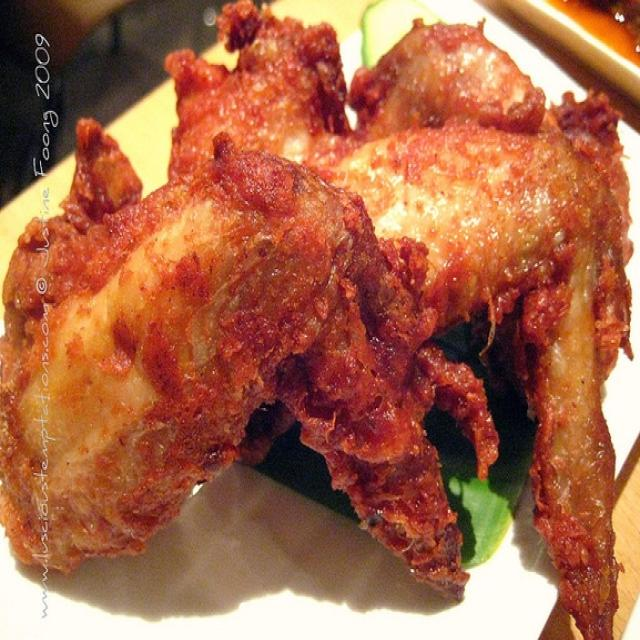鸡肉料理 含炸鸡: (11, 11, 611, 610)
